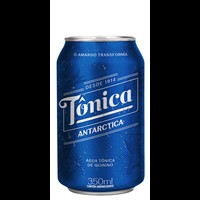tonica: (53, 35, 148, 197)
